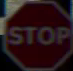Stop: (4, 6, 69, 57)
